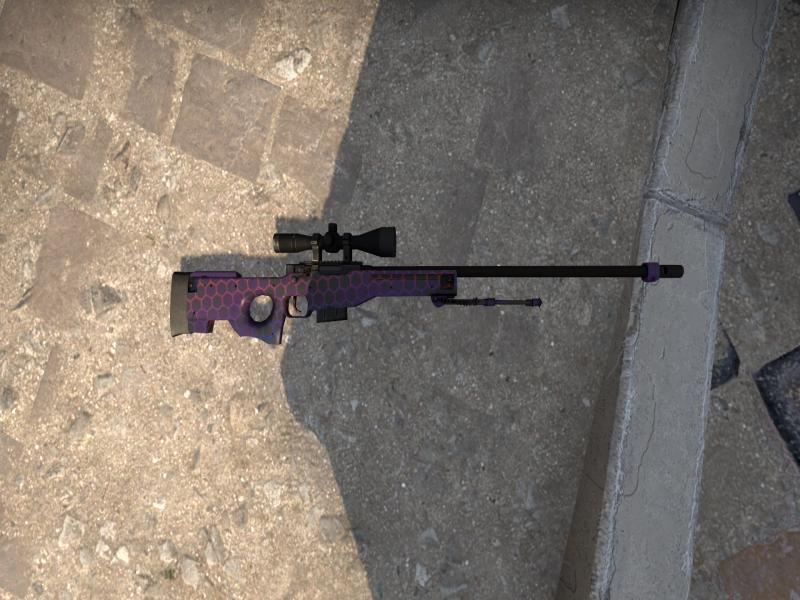AWP: (170, 223, 542, 344), (459, 262, 685, 281)
